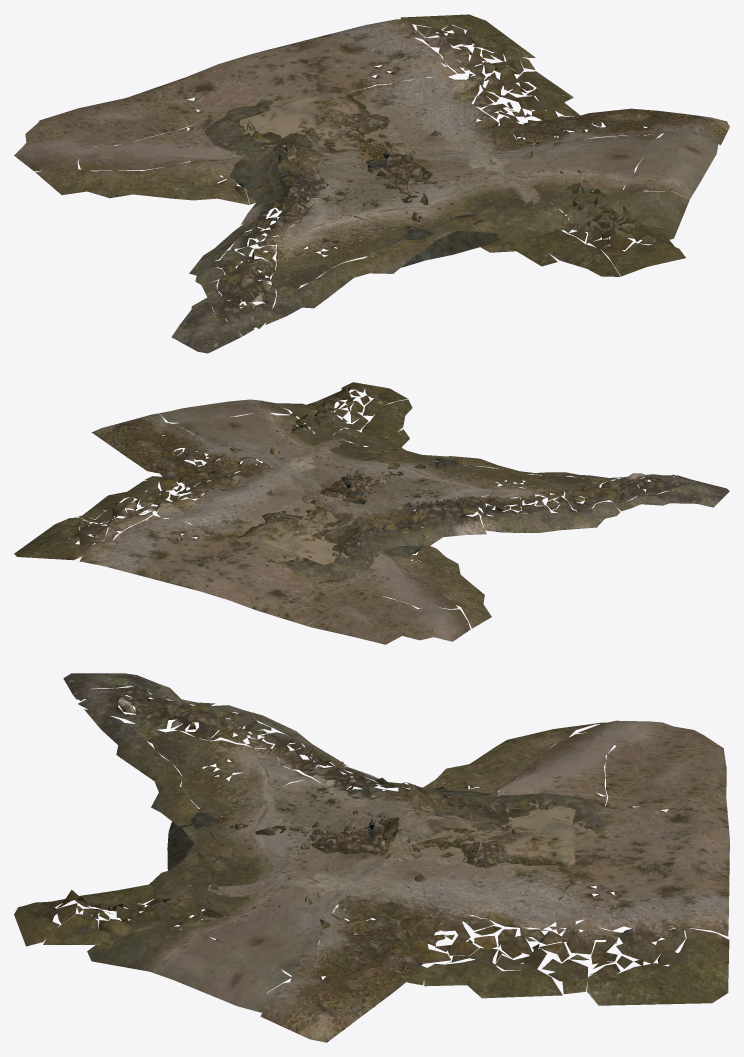
The model's file is props.glb.
3 views of the same model, one above another, from view 1: azimuth 30°, elevation 25°; view 2: azimuth 150°, elevation 25°; view 3: azimuth 270°, elevation 25° (orthographic). The views are drawn at different scales.
Visible parts, largest first — view 1: coast_rocks_01|all, coast_rocks_02|all, coast_rocks_03|all, rock_face_01|all; view 2: coast_rocks_02|all, coast_rocks_01|all, coast_rocks_03|all; view 3: coast_rocks_02|all, coast_rocks_01|all, coast_rocks_03|all.
Boxes of the visible parts, left/top/right/bottom form: coast_rocks_01|all: left=171, top=99, right=729, bottom=353; coast_rocks_02|all: left=14, top=14, right=685, bottom=276; coast_rocks_03|all: left=212, top=93, right=497, bottom=267; rock_face_01|all: left=353, top=141, right=399, bottom=166; coast_rocks_02|all: left=14, top=382, right=491, bottom=644; coast_rocks_01|all: left=92, top=399, right=729, bottom=597; coast_rocks_03|all: left=198, top=448, right=480, bottom=564; coast_rocks_02|all: left=14, top=720, right=729, bottom=1005; coast_rocks_01|all: left=63, top=673, right=616, bottom=1042; coast_rocks_03|all: left=167, top=789, right=575, bottom=905.
Bounding box in the file's own units: 59.47 × 4.58 × 49.44.
Materials: 37 (37 with a texture image).
